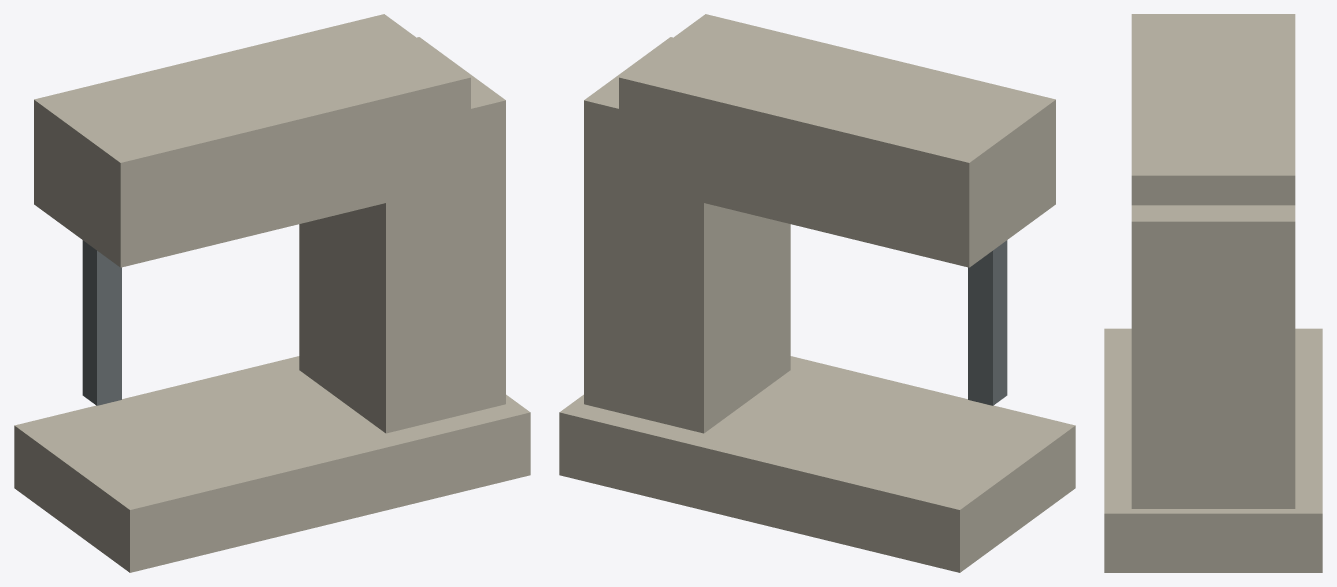
File: sewing_machine.glb
3 renders of one model, left to right at view 1: azimuth 30°, elevation 25°; view 2: azimuth 150°, elevation 25°; view 3: azimuth 270°, elevation 25°, orthographic. The views are drawn at different scales.
Parts seen in each view (by area): view 1: body; view 2: body; view 3: body.
Part boxes in pixels (<box>): body: <box>14,14,530,572</box>; body: <box>559,14,1075,572</box>; body: <box>1104,14,1322,572</box>.
Bounding box in the file's own units: 0.4 × 0.38 × 0.2.
